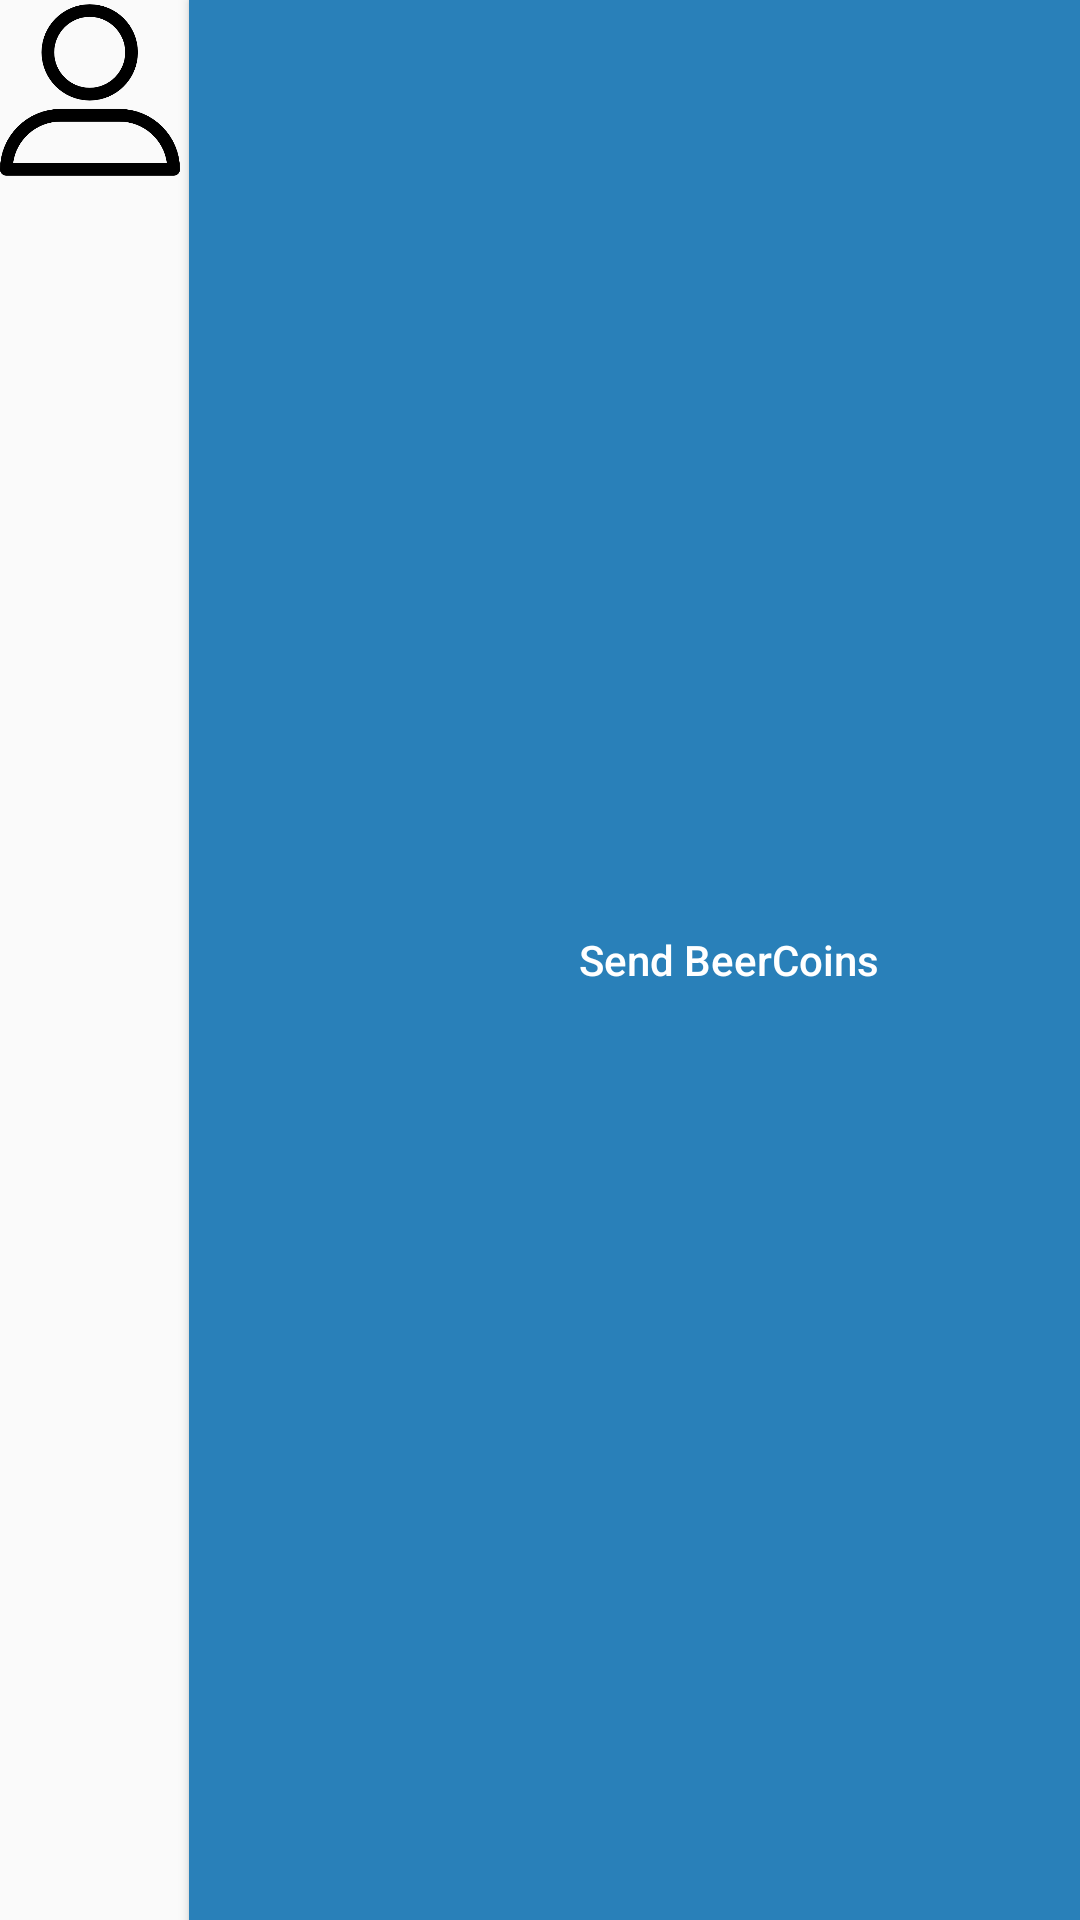

Named icons in this screenshot (1080 x 1920) and their centers, (x,y):
profile: (90,90)
